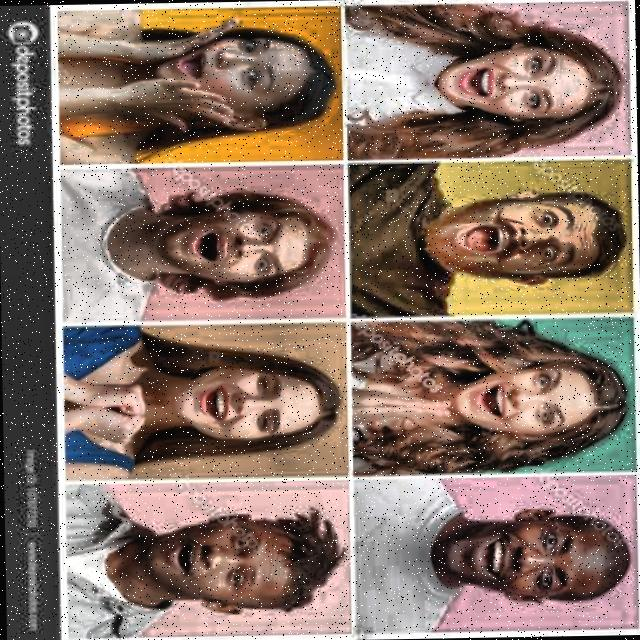surprised: (140, 170, 353, 327), (123, 487, 351, 632), (134, 7, 342, 152), (408, 25, 626, 159), (409, 496, 640, 621), (430, 319, 630, 463), (421, 169, 632, 302), (162, 327, 345, 474)
